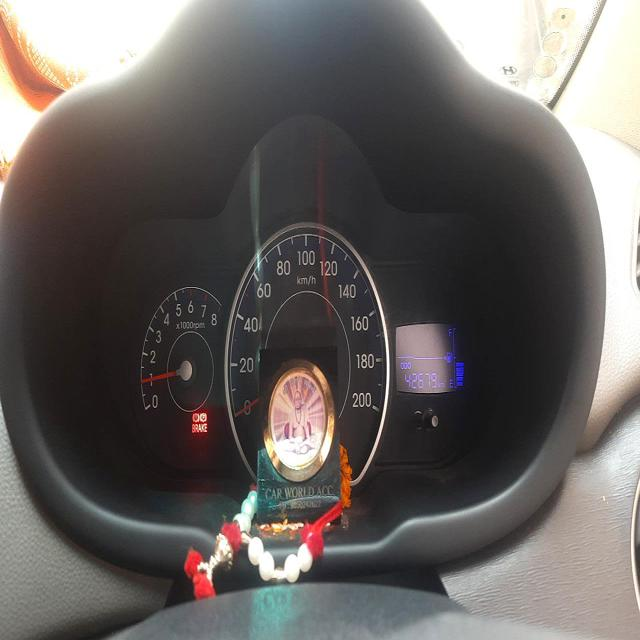odometer: (403, 368, 438, 392)
